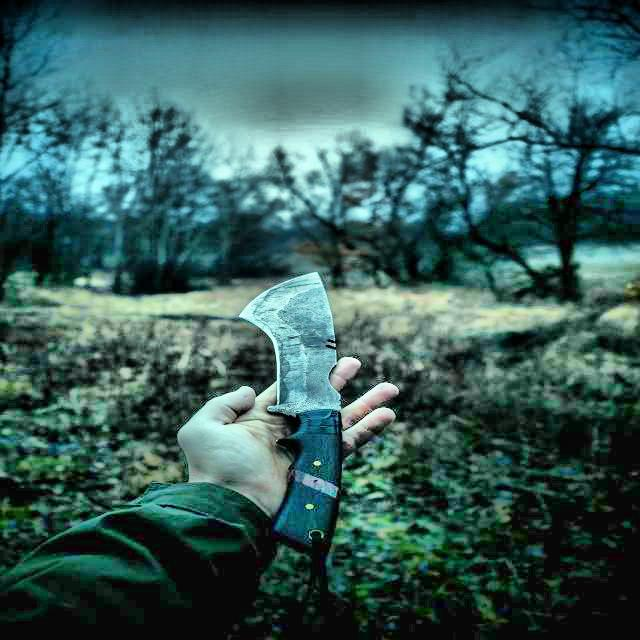knife: (240, 265, 373, 526)
